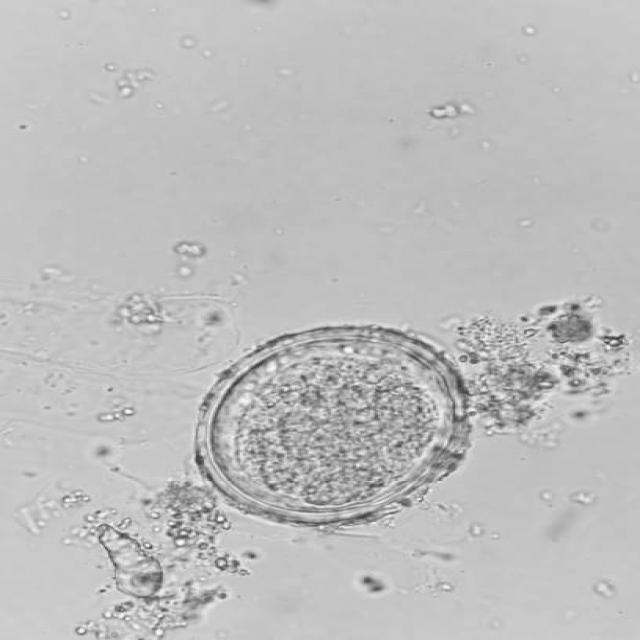Ascaris Lumbricoides: (182, 314, 491, 536)
